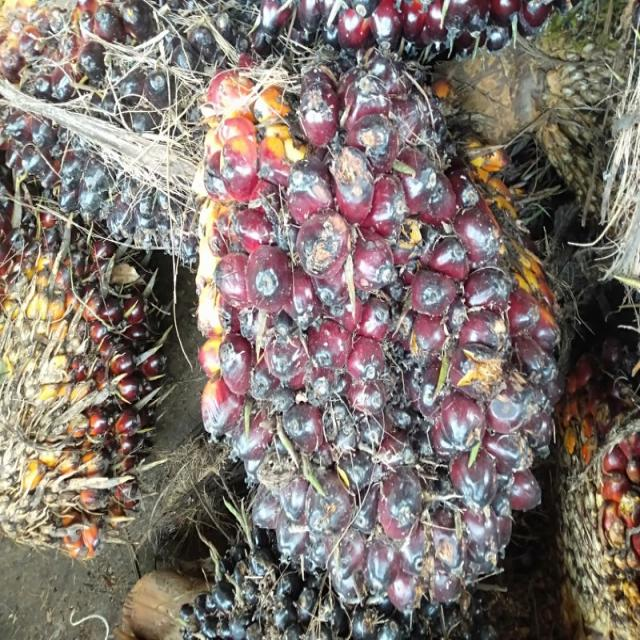fraksi 1: (189, 56, 572, 613)
